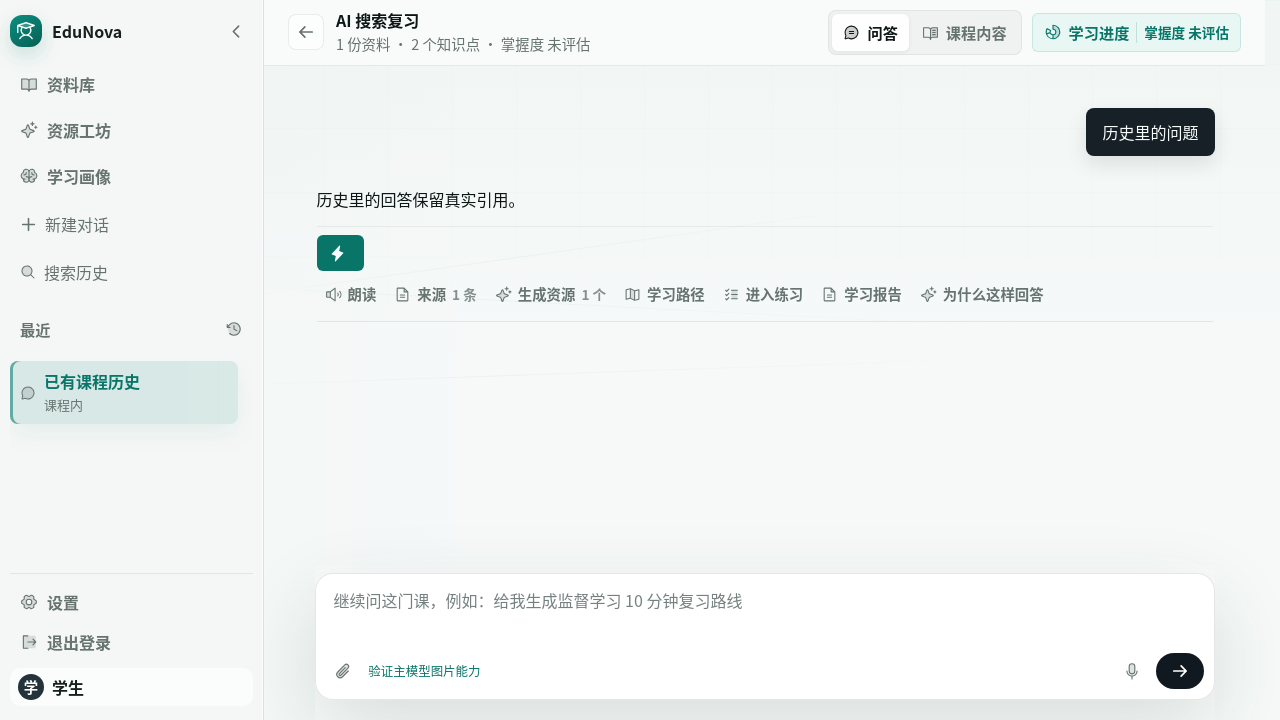
Test: CourseSpacePage course tutor sessions › deletes the active course history conversation and returns to course guidance
Click the button "已有课程历史 课程内": coordinates (106, 393) [16, 367, 196, 418]
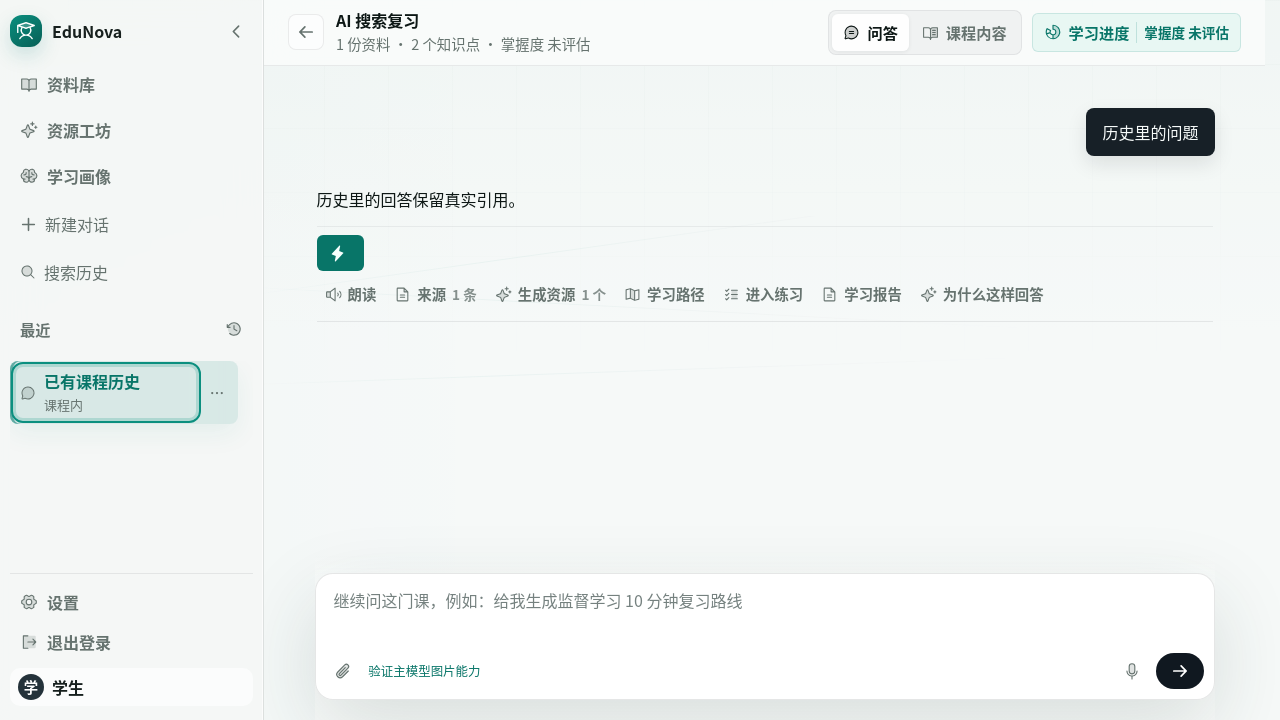
Expected: the element named "课程即时对话" is shown, [314, 108, 1214, 341]
Click the button named "打开会话操作菜单 777": coordinates (217, 393) [202, 378, 232, 408]
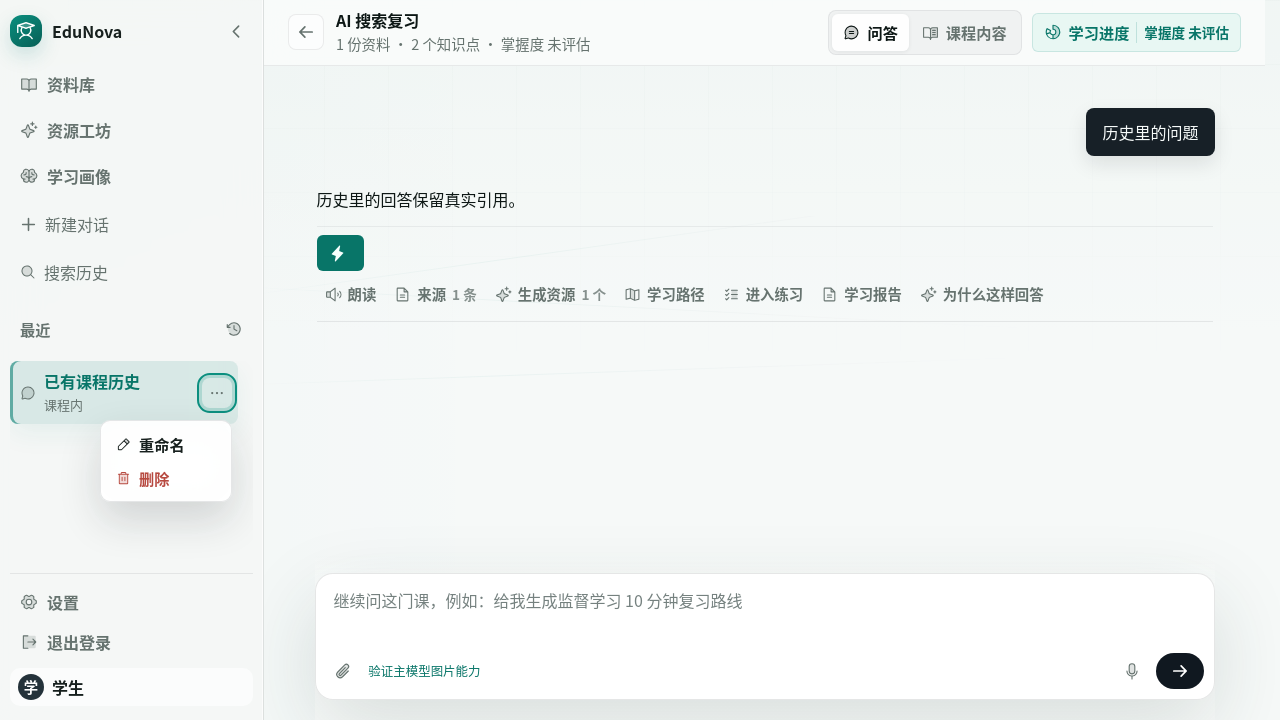
Click the menu item "删除": coordinates (166, 478) [107, 462, 225, 496]
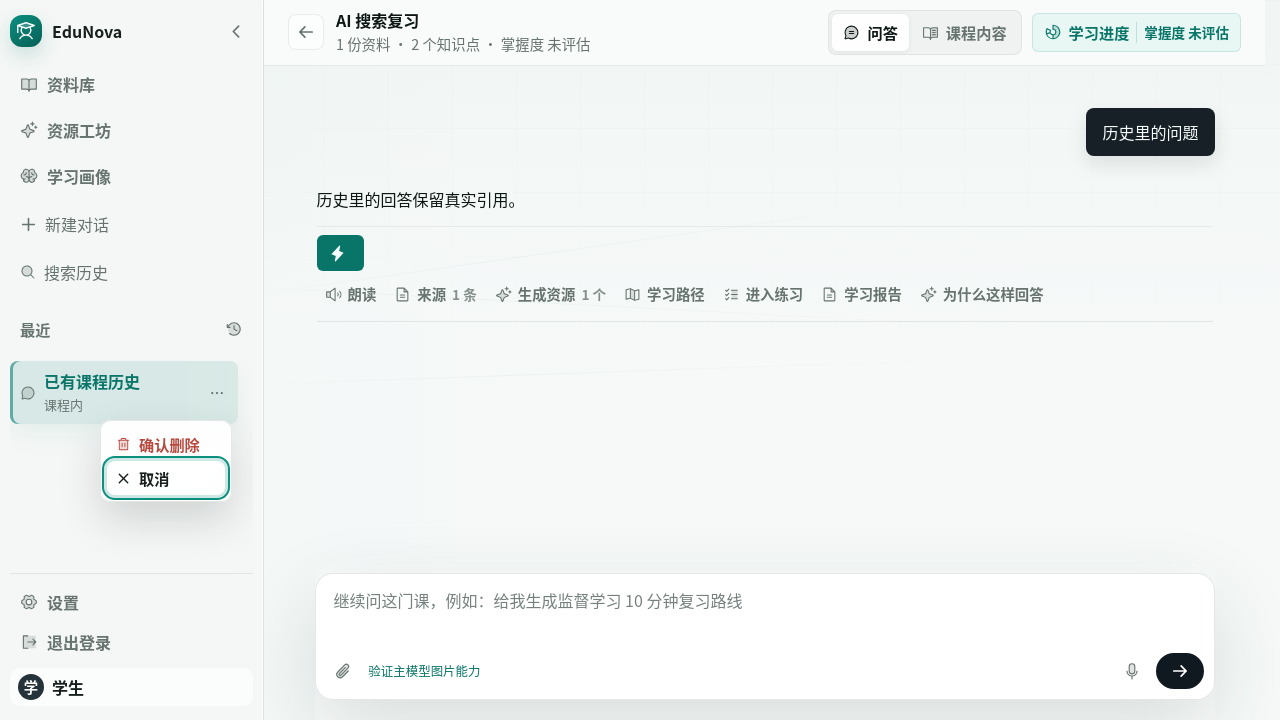
Click the menu item "确认删除": coordinates (166, 444) [107, 428, 225, 462]
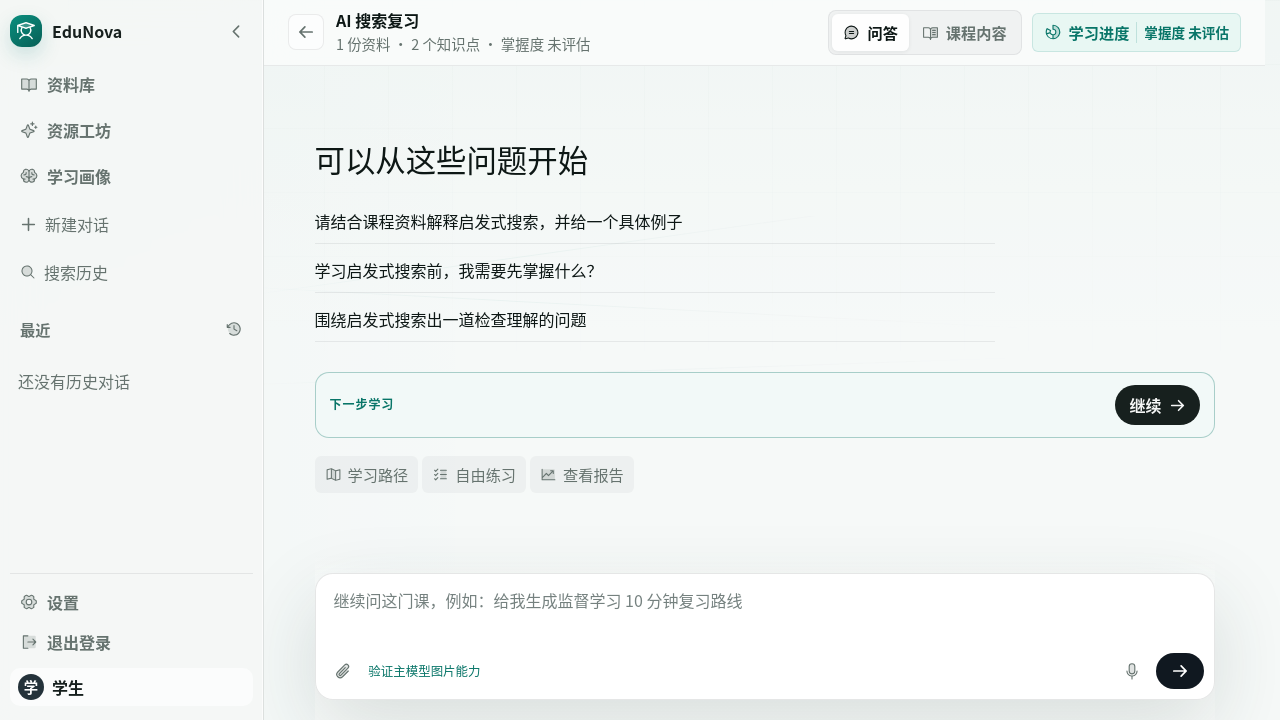
Result: the element named "课程提问引导" is shown at [314, 108, 994, 354]
Result: the element "课程即时对话" is gone
Result: the button "已有课程历史" is gone
